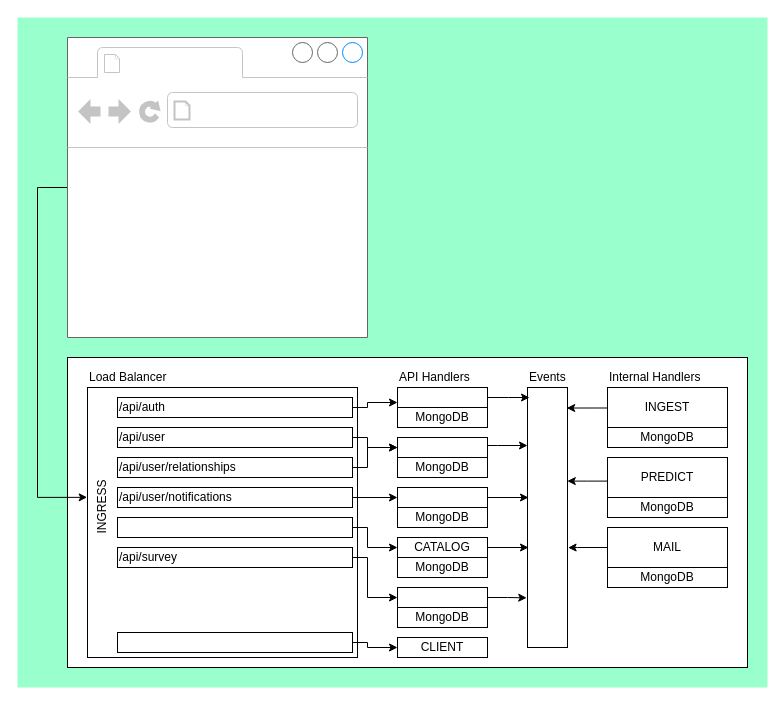
Image size: 784x704. Some labels were removed from this diagram. The shapes that lost their labels are listed below. From the top down, each one's centre as x and y in pixels, then its label:
At (182,62): "Page 1".
At (322,110): "flickswipe.app".
At (442,397): "AUTH".
At (442,447): "USER".
At (442,497): "NOTIFY".
At (547,517): "NATS".
At (234,527): "/api/media-items".
At (442,597): "SURVEY".
At (234,642): "ALL OTHER REQUESTS".
